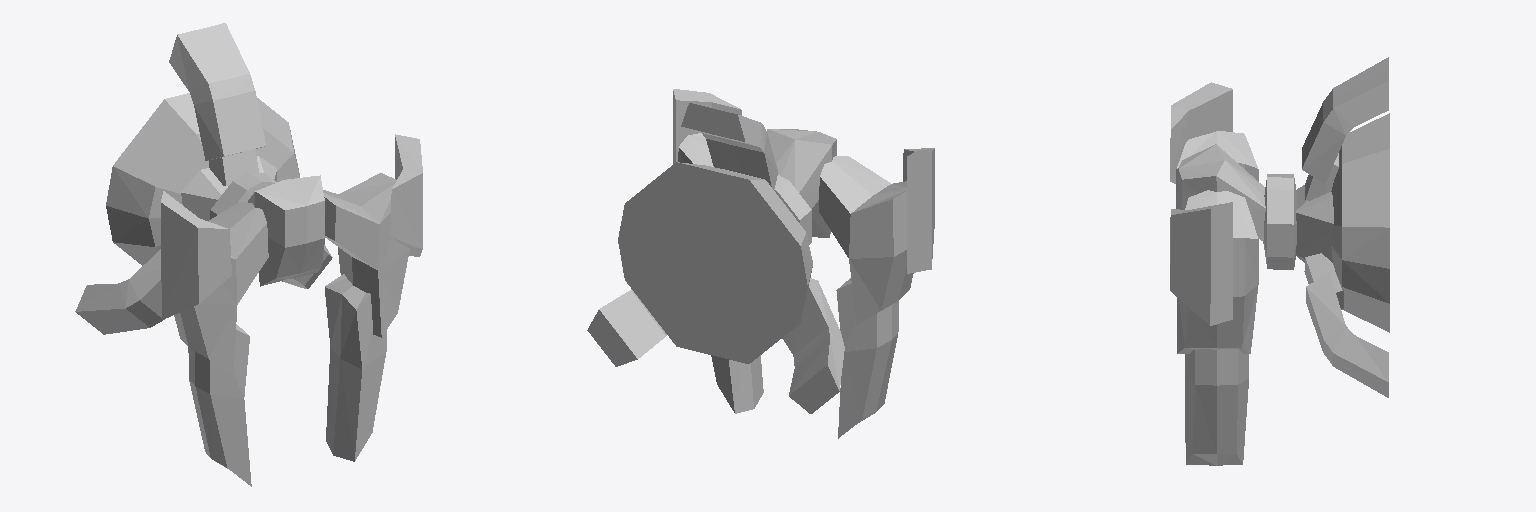
The model's file is turret-09.obj.
3 renders of one model, left to right at view 1: azimuth 30°, elevation 25°; view 2: azimuth 150°, elevation 25°; view 3: azimuth 270°, elevation 25°, orthographic.
Parts seen in each view (by area): view 1: turret_09; view 2: turret_09; view 3: turret_09.
Boxes of the visible parts, box(x1,y1,x2,y2) form: turret_09: box(75, 23, 422, 486); turret_09: box(587, 89, 934, 438); turret_09: box(1170, 57, 1389, 465).
Bounding box in the file's own units: 4.81 × 6.64 × 3.54.